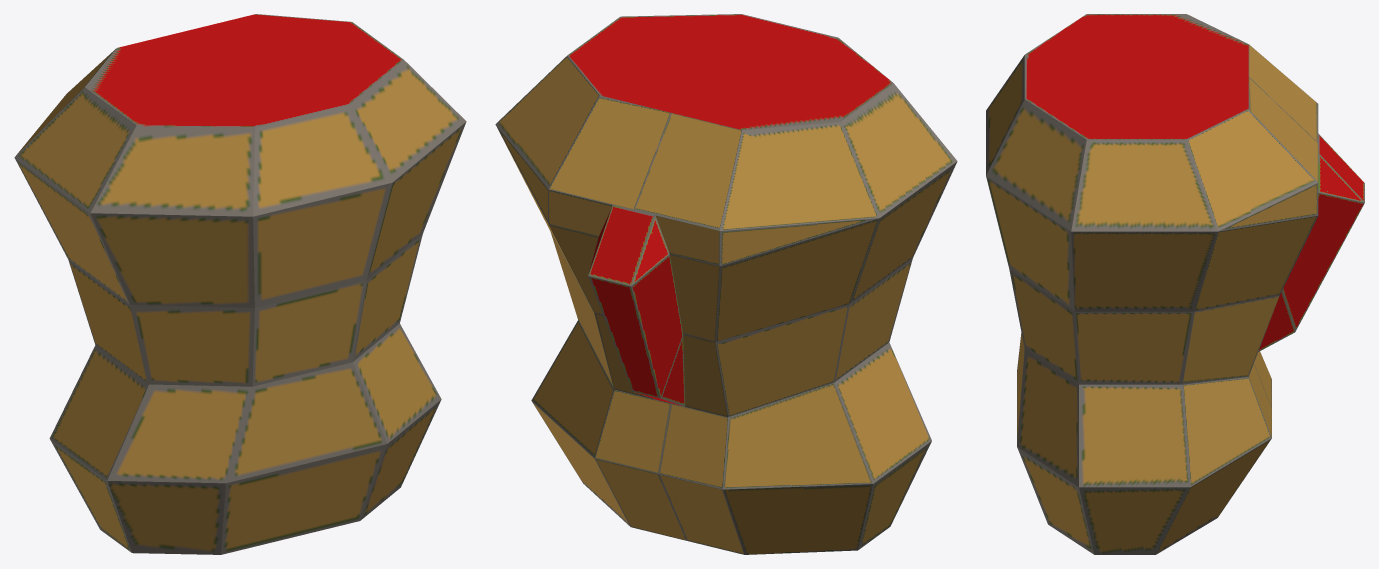
File: Body.fbx
3 renders of one model, left to right at view 1: azimuth 30°, elevation 25°; view 2: azimuth 150°, elevation 25°; view 3: azimuth 270°, elevation 25°, orthographic. The views are drawn at different scales.
Parts seen in each view (by area): view 1: Shape_IndexedFaceSet; view 2: Shape_IndexedFaceSet; view 3: Shape_IndexedFaceSet.
Part boxes in pixels (x1=…): Shape_IndexedFaceSet: x1=14, y1=14, x2=466, y2=554; Shape_IndexedFaceSet: x1=495, y1=14, x2=957, y2=554; Shape_IndexedFaceSet: x1=986, y1=14, x2=1364, y2=554.
Size of the model in its own units: 0.3774 by 0.413 by 0.3418.
